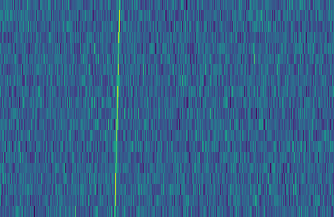signal: (109, 0, 123, 217)
